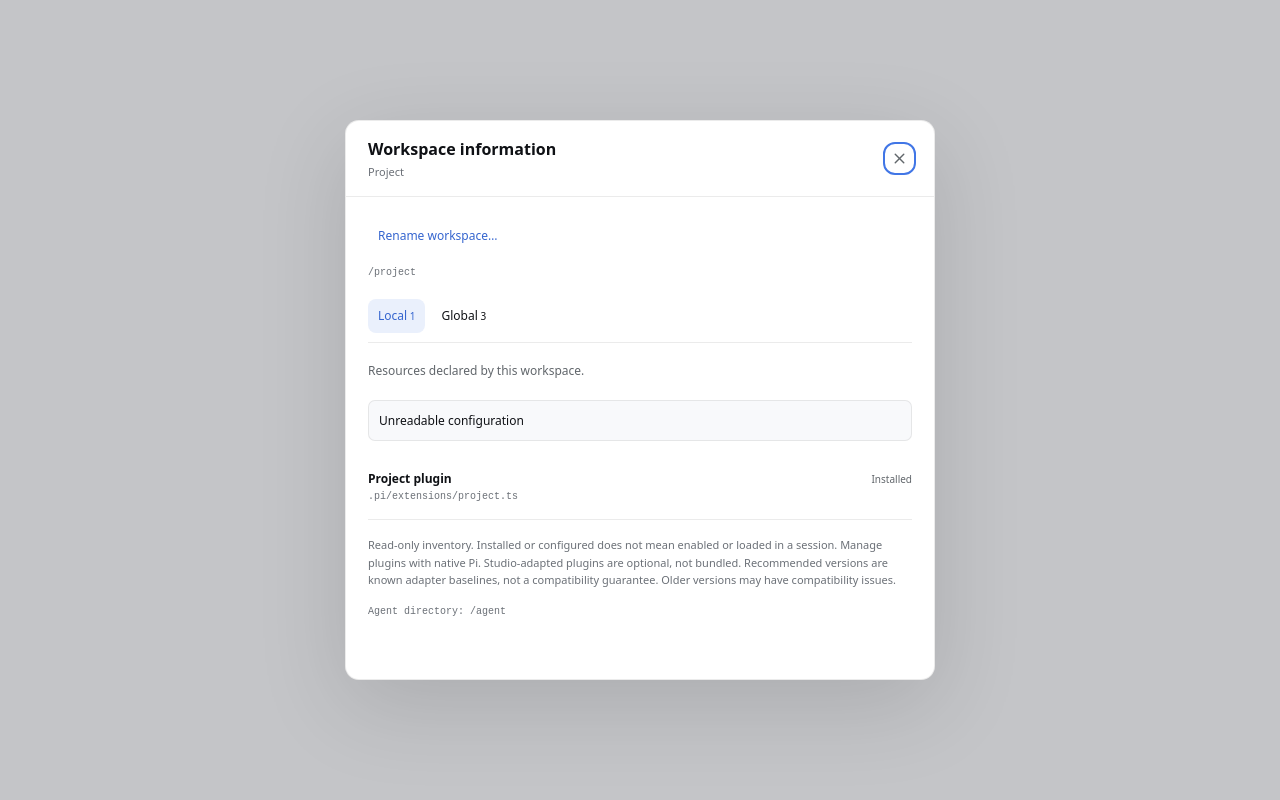
Scenario: WorkspaceInfo separates Local and Global, preserving warnings and honest states
Expected: the text "Project plugin" is shown, [368,469,452,488]
Expected: the text "Permissions" is not shown
Click the button "Global 3" at (464, 316), box [432,299,496,333]
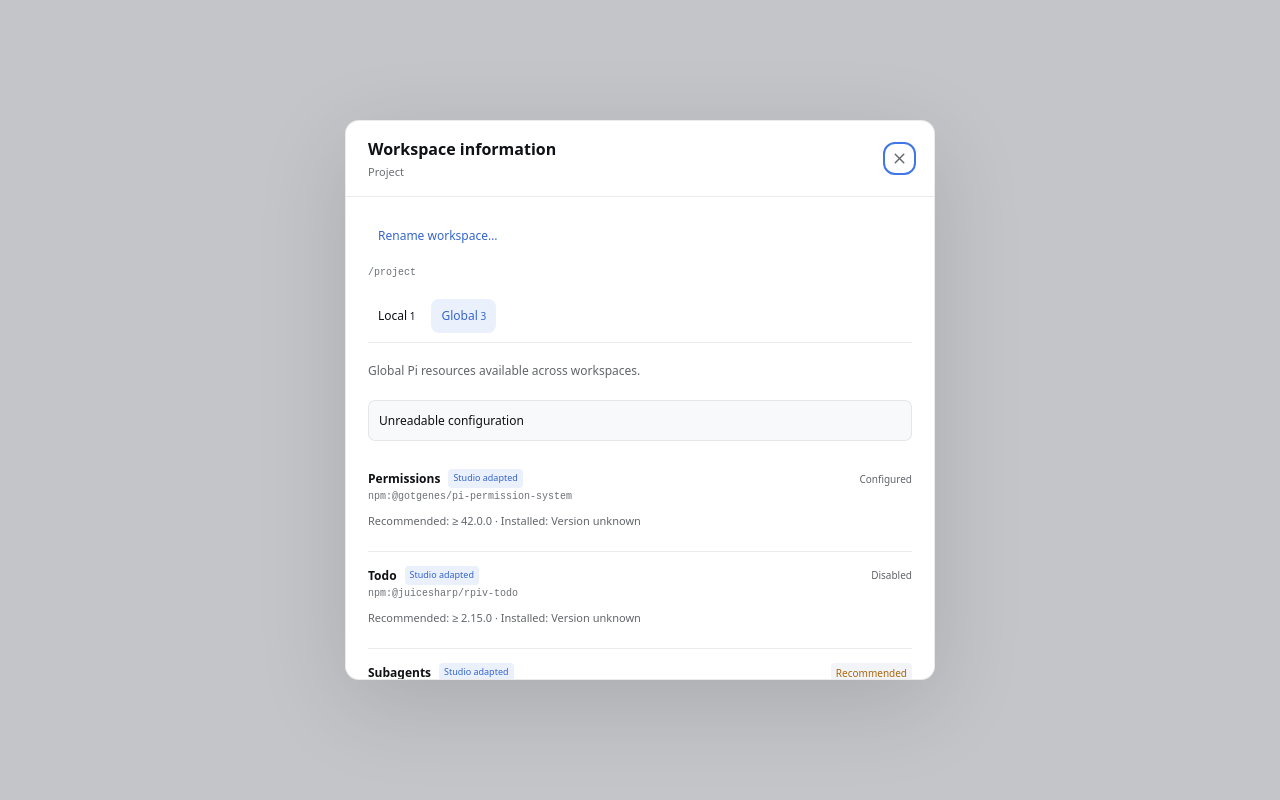
Expected: the text "Disabled" is shown, [871,567,912,583]
Expected: the text "Recommended" is shown, [831,662,912,679]
Expected: the text "Studio adapted" is shown 3 times, [448,469,523,488]; [405,566,479,584]; [439,663,514,679]
